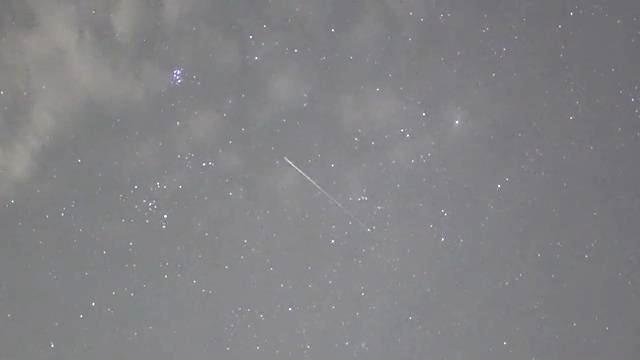meteorite: (265, 154, 358, 206)
